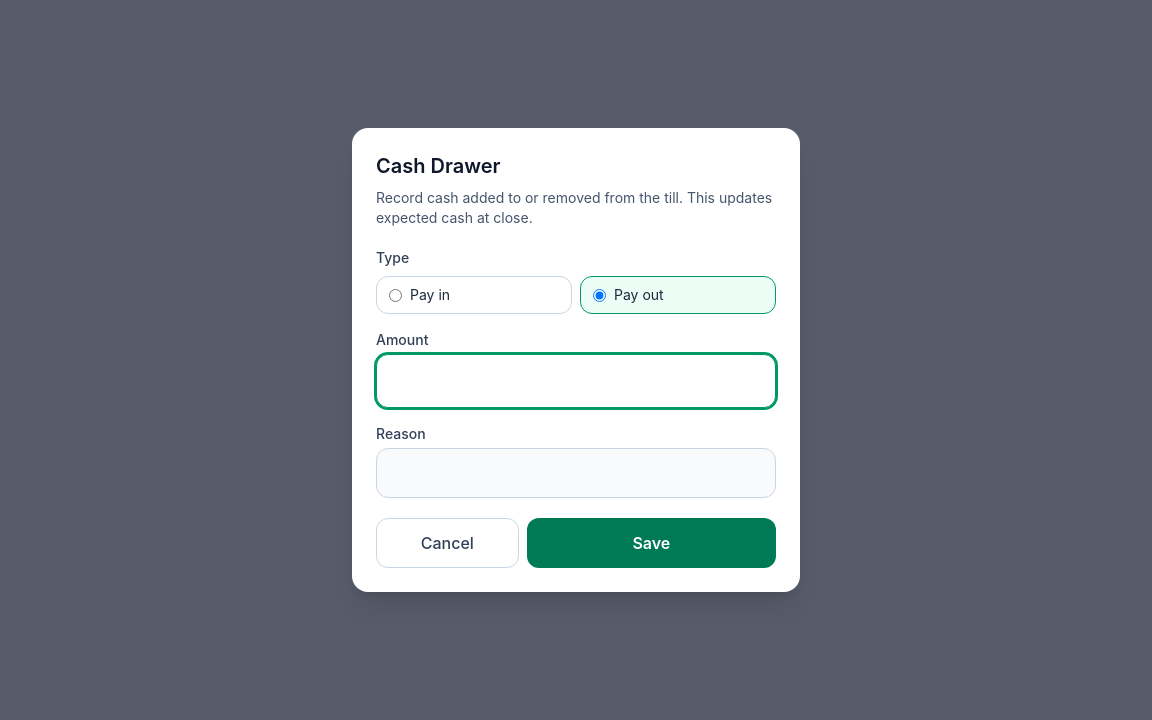
Test: DrawerEventModal › keeps the modal open and shows store error when the API fails
Expected: the radio button with test id "drawer-type-pay-out" is checked, [593,288,606,302]
In the field with test id "drawer-amount": (576, 381) [376,354,776,408], type "20"
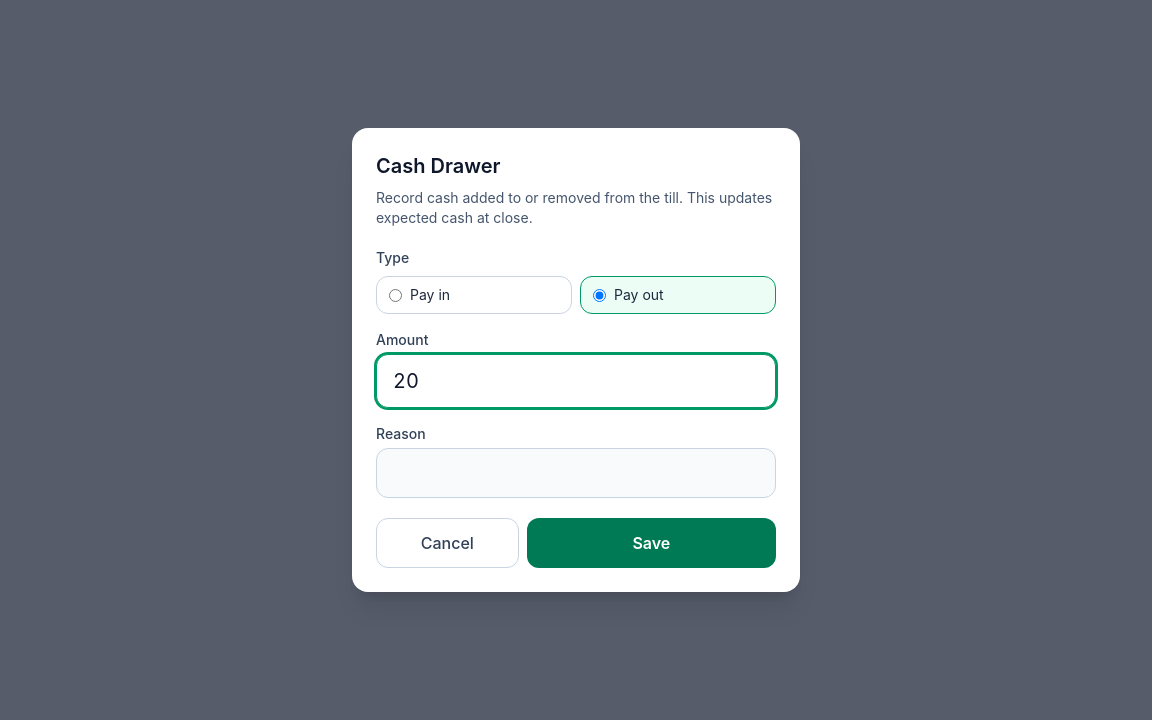
In the field with test id "drawer-reason": (576, 473) [376,448,776,498], type "Safe drop box"
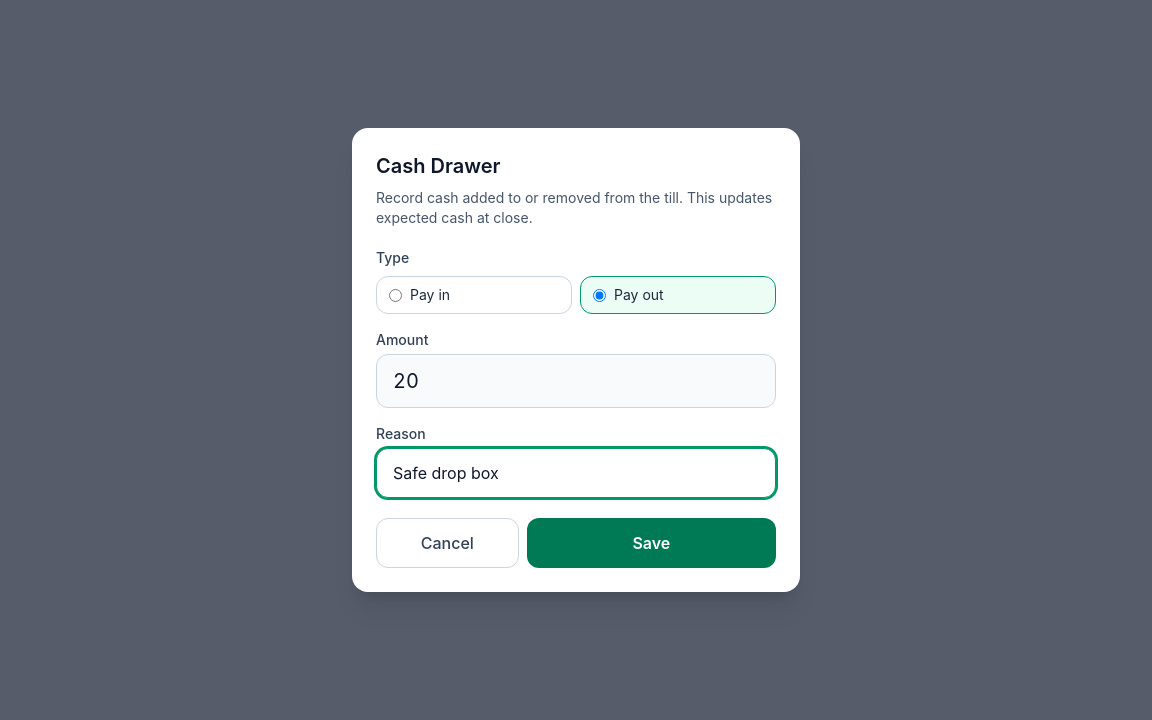
Click the button with test id "drawer-event-submit": (651, 543) [527,518,776,568]
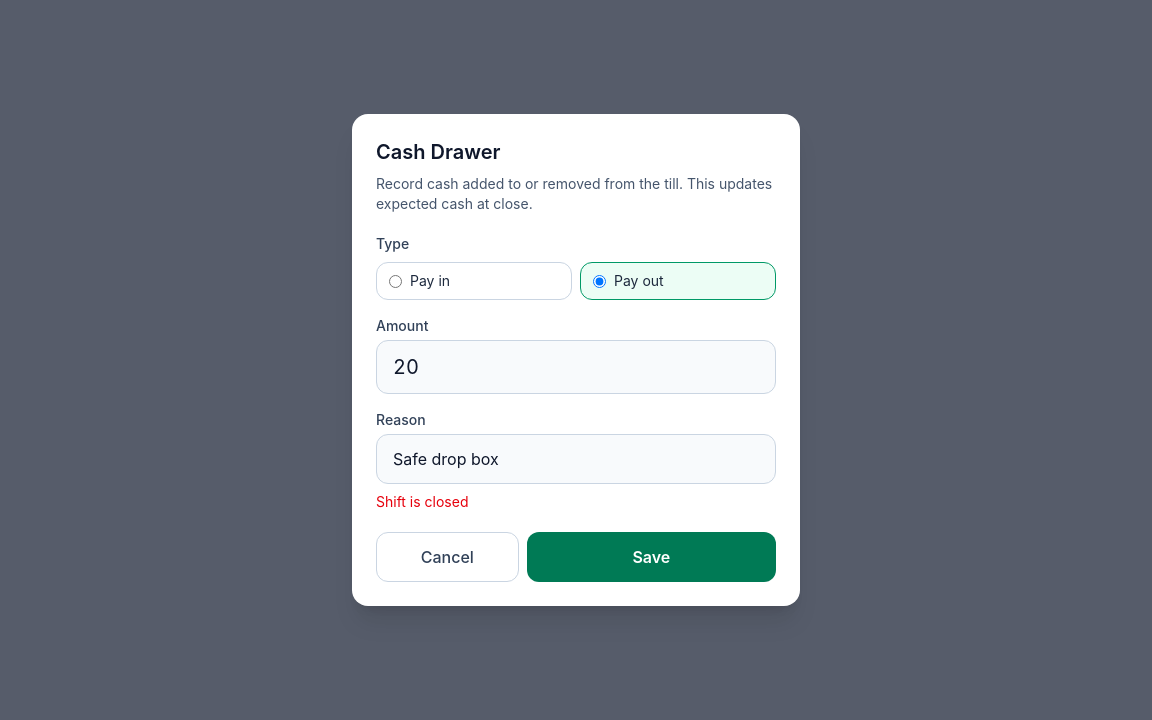
Expected: the message with test id "drawer-event-error" reads "Shift is closed", [376,493,468,510]
